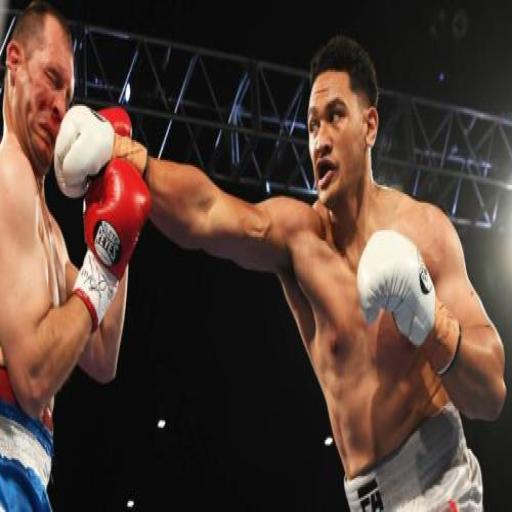boxing: (54, 32, 507, 508)
